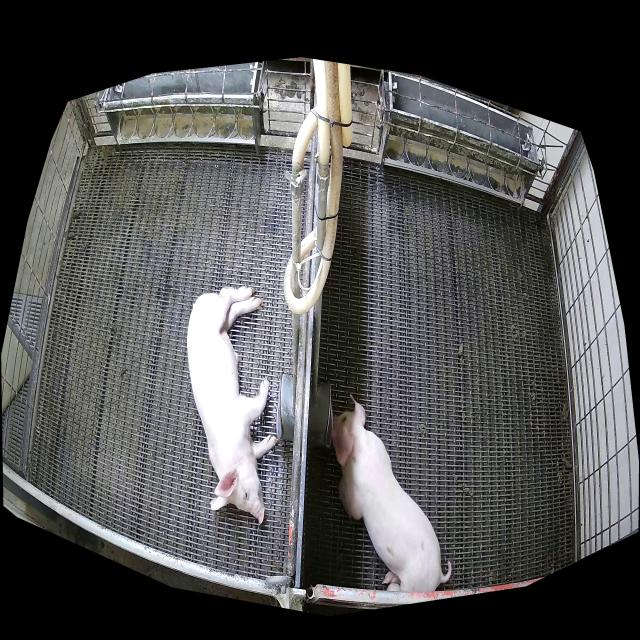pig: (330, 393, 453, 595), (187, 285, 277, 522)
